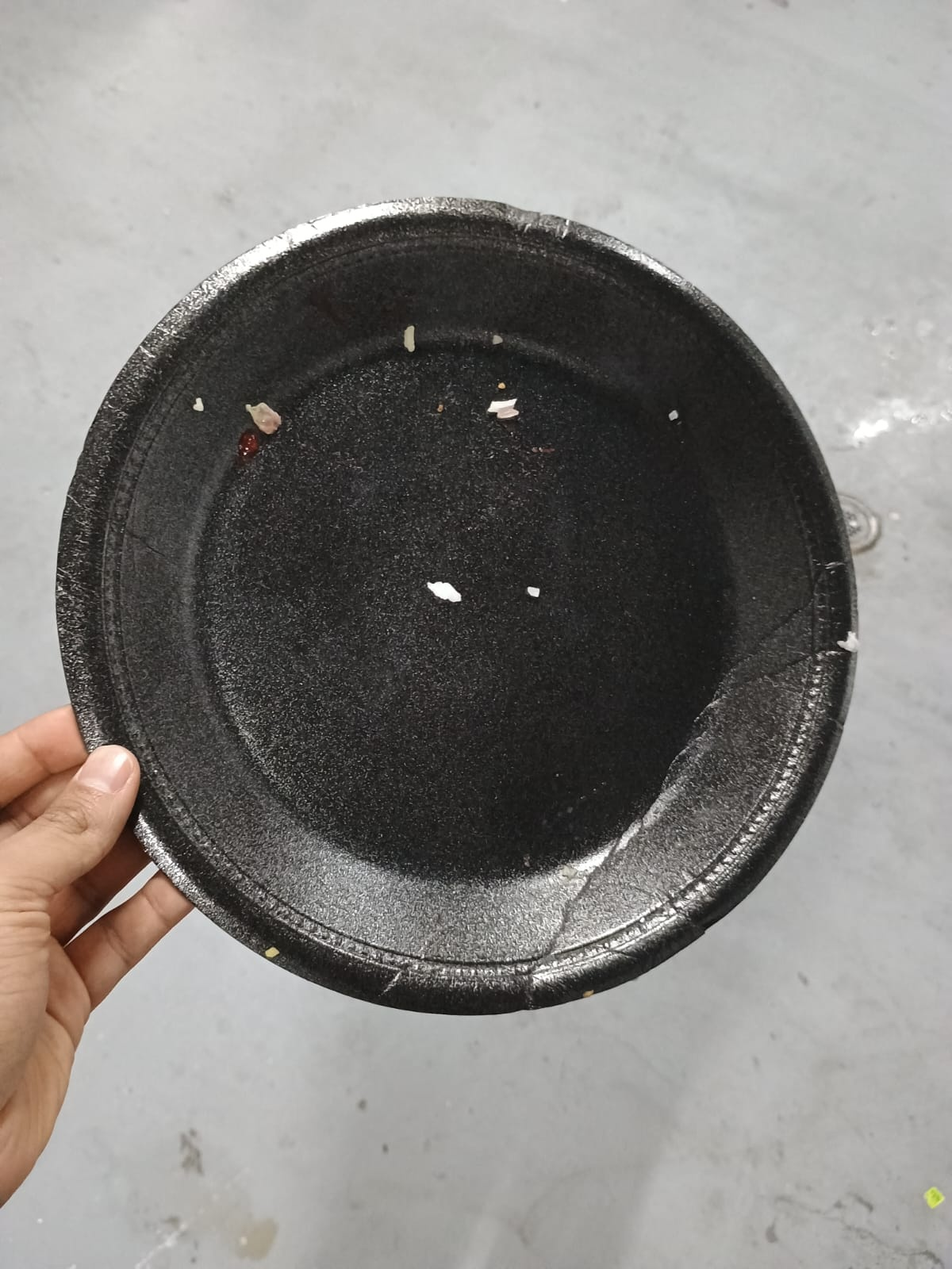Ordinario: (55, 193, 857, 1016)
